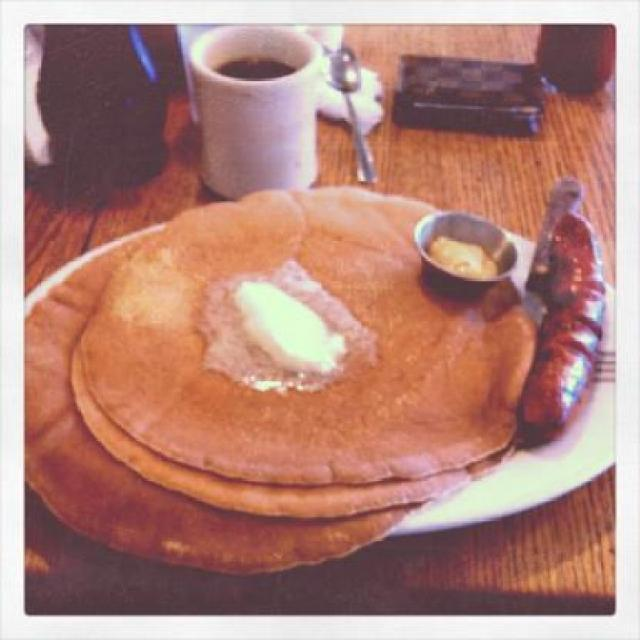Pancake: (24, 230, 423, 578), (80, 188, 540, 486)
